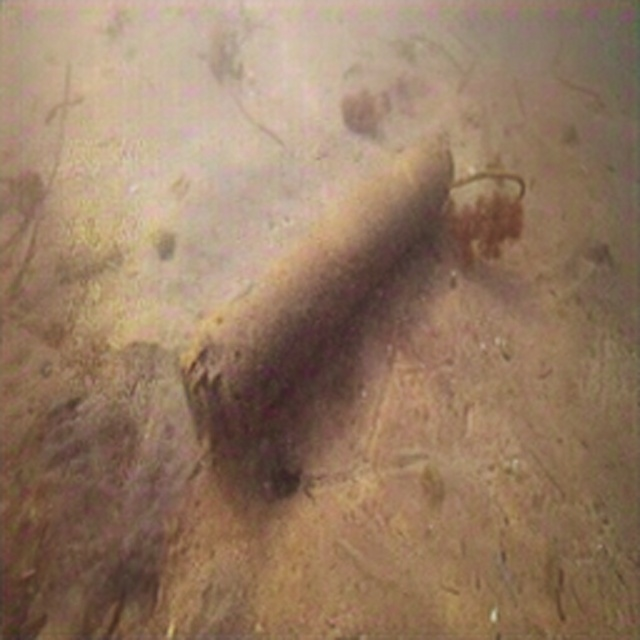mine: (180, 133, 455, 436)
